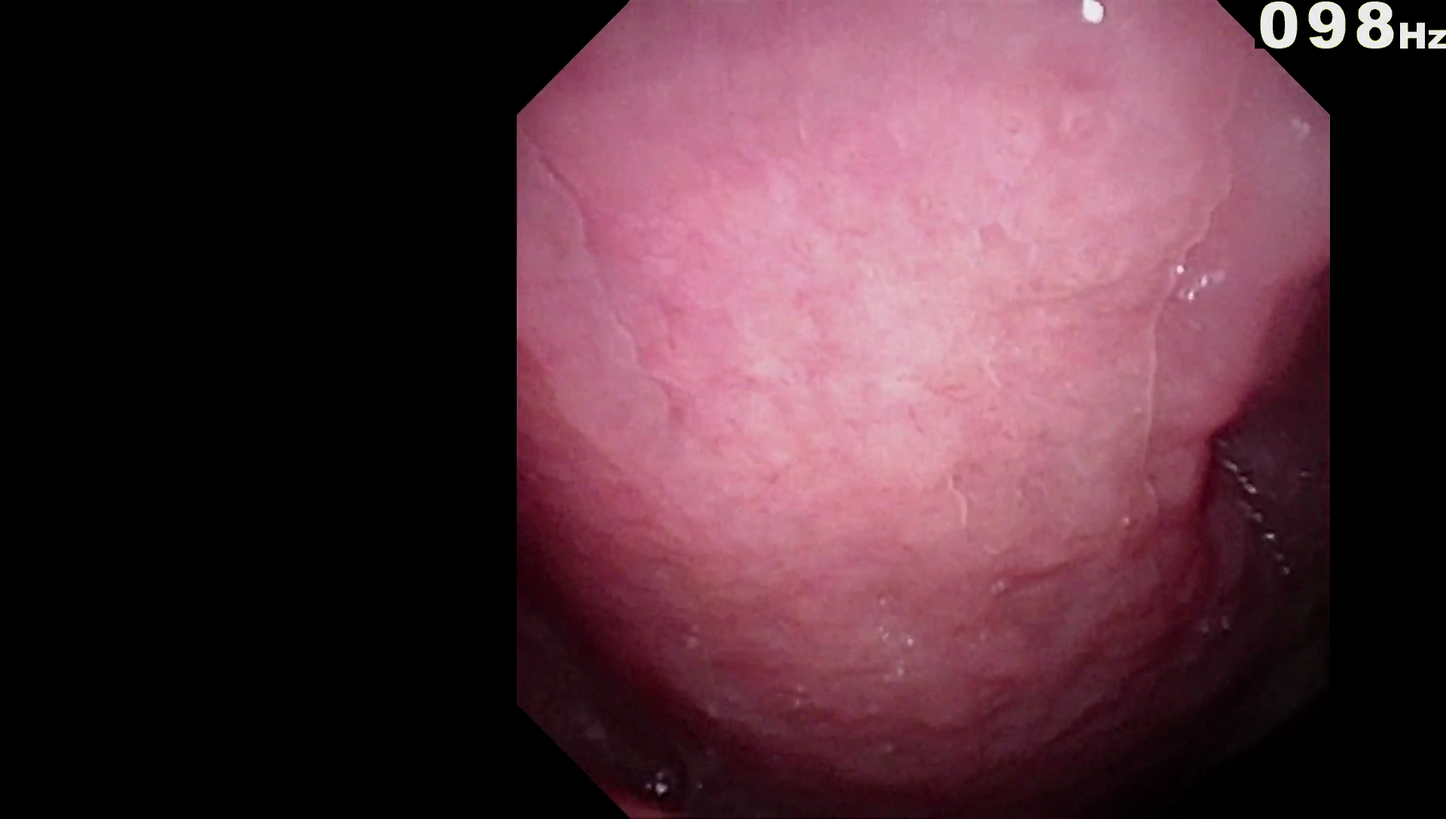close_wall: (584, 74, 1232, 584)
next: (1043, 596, 1296, 803)
